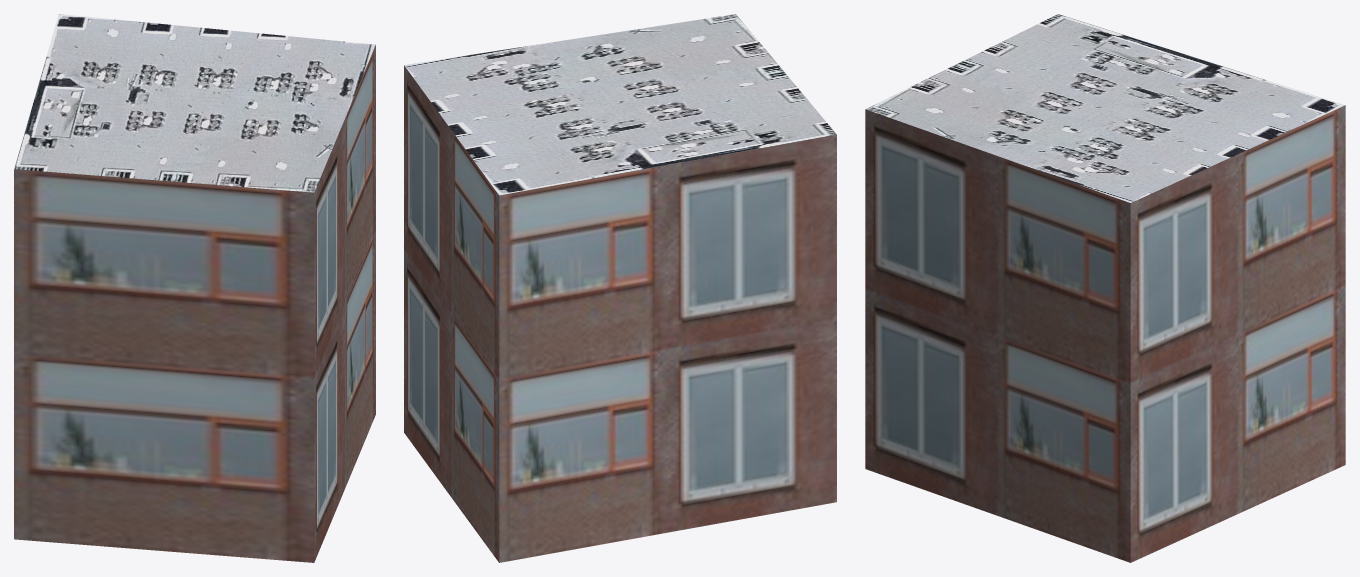
The model's file is ResTex__851.fbx.
3 renders of one model, left to right at view 1: azimuth 30°, elevation 25°; view 2: azimuth 150°, elevation 25°; view 3: azimuth 270°, elevation 25°, orthographic. The views are drawn at different scales.
Visible parts, largest first — view 1: CityEngineMaterial_19_m, CityEngineMaterial_15_m; view 2: CityEngineMaterial_19_m, CityEngineMaterial_15_m; view 3: CityEngineMaterial_19_m, CityEngineMaterial_15_m.
Boxes of the visible parts, <box> form: CityEngineMaterial_19_m: <box>14,45,375,562</box>; CityEngineMaterial_15_m: <box>14,14,375,192</box>; CityEngineMaterial_19_m: <box>404,65,836,562</box>; CityEngineMaterial_15_m: <box>404,14,836,195</box>; CityEngineMaterial_19_m: <box>865,105,1345,562</box>; CityEngineMaterial_15_m: <box>866,14,1344,202</box>.
Bounding box in the file's own units: 6.77 × 6 × 7.25.
Materials: 2 (2 with a texture image).
